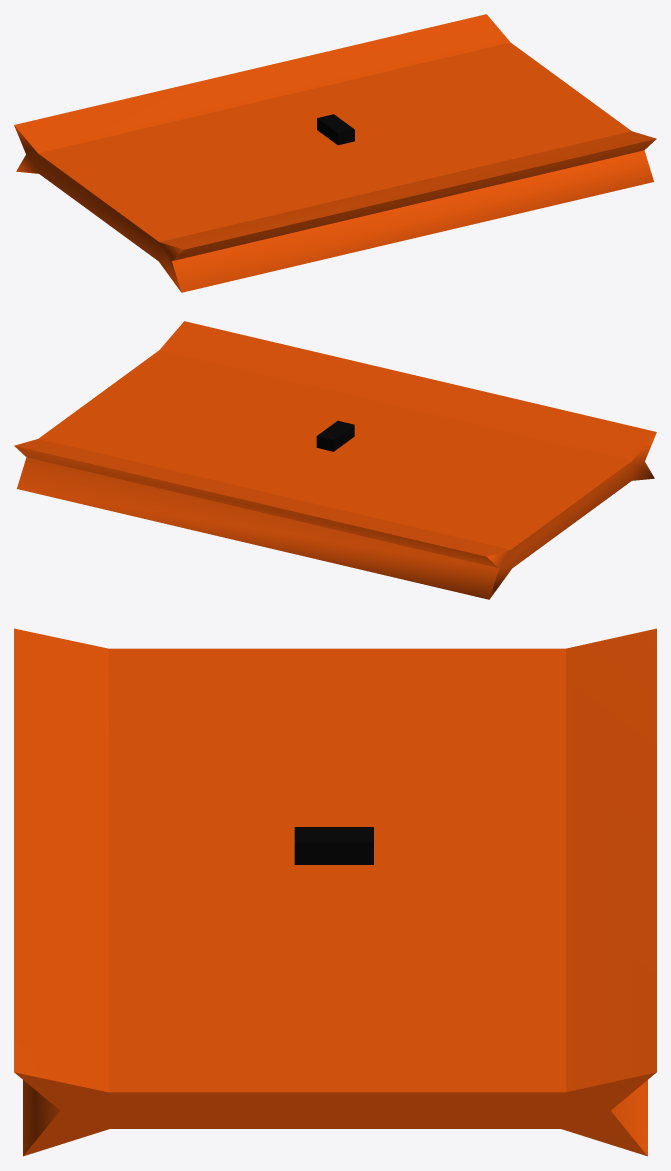
Rendered from carSize.fbx.
The picture shows the model from 3 angles, top to bottom: view 1: azimuth 30°, elevation 25°; view 2: azimuth 150°, elevation 25°; view 3: azimuth 270°, elevation 25°; orthographic projection. The views are drawn at different scales.
Parts seen in each view (by area): view 1: TRACK, MST; view 2: TRACK, MST; view 3: TRACK, MST.
Part boxes in pixels (left/top/right/bottom): TRACK: left=14, top=14, right=656, bottom=292; MST: left=317, top=114, right=354, bottom=145; TRACK: left=14, top=321, right=656, bottom=599; MST: left=316, top=420, right=354, bottom=451; TRACK: left=14, top=628, right=656, bottom=1156; MST: left=294, top=827, right=373, bottom=864.
Size of the model in its own units: 3041 by 340 by 1896.
